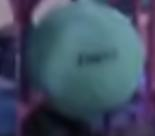algae: (24, 0, 145, 121)
